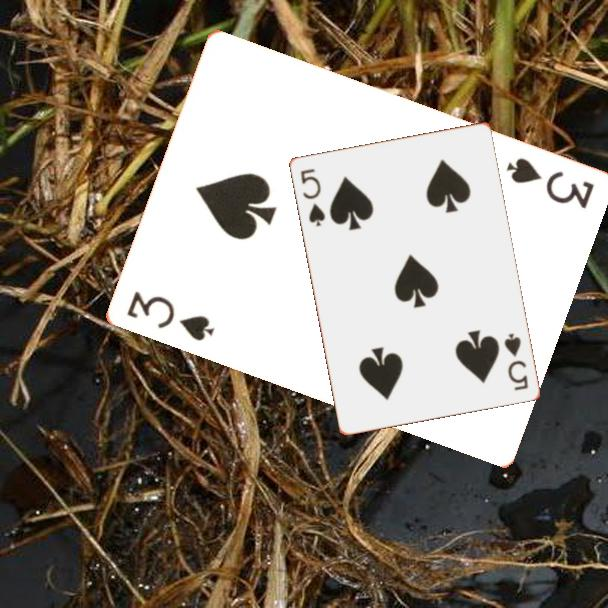s03: (502, 154, 597, 212), (122, 288, 217, 345)
s05: (297, 165, 328, 229), (500, 330, 531, 393)
